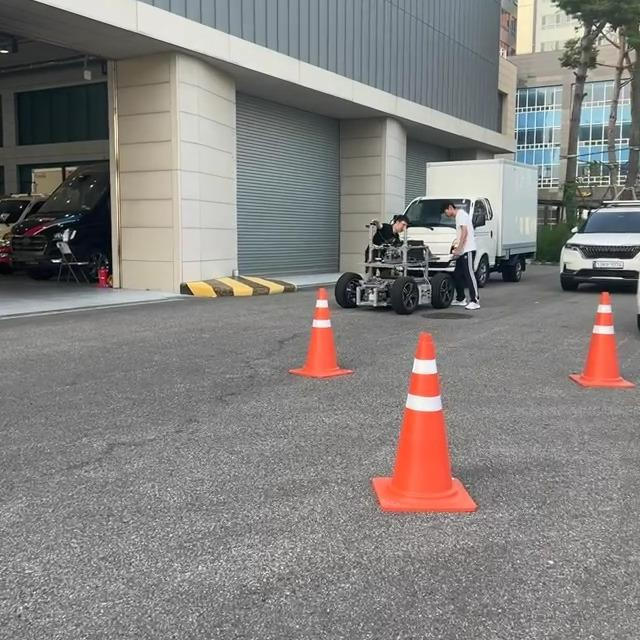fallen_object: (335, 325, 493, 545), (534, 267, 640, 449), (260, 279, 363, 389)
